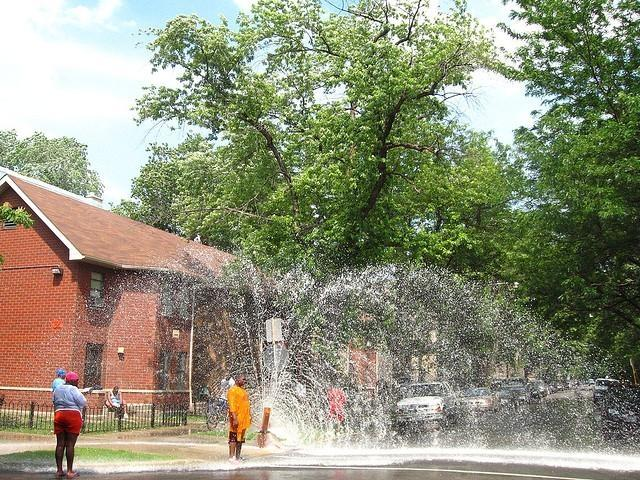car: (396, 382, 462, 426), (600, 386, 640, 442), (459, 388, 500, 412), (593, 378, 627, 404), (497, 389, 533, 406), (527, 380, 550, 398), (548, 381, 560, 394), (558, 384, 569, 392), (569, 383, 577, 390), (588, 380, 594, 384)
